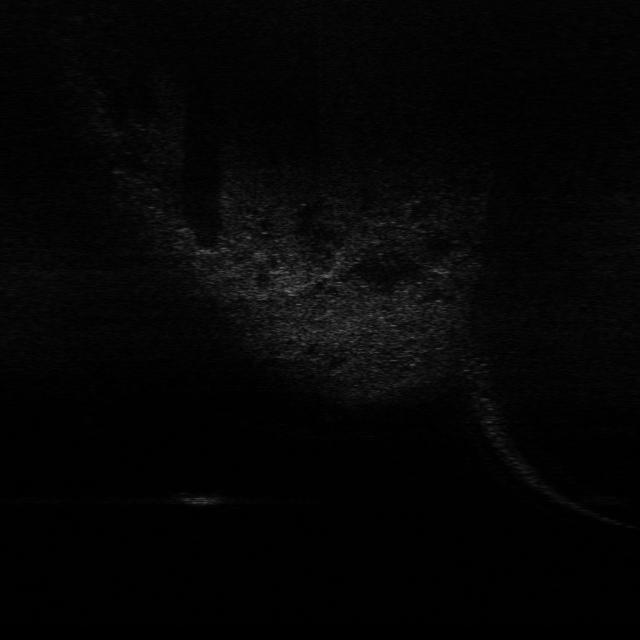cube: (169, 489, 227, 508)
